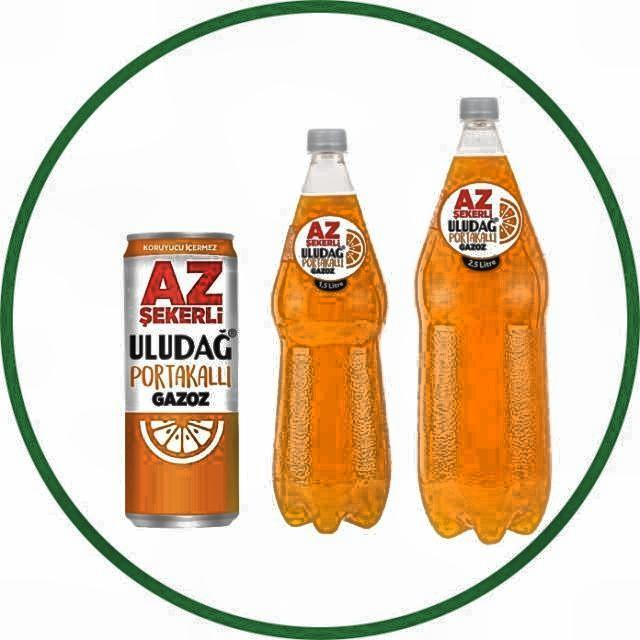metal: (122, 233, 240, 528)
plastic: (416, 97, 551, 547), (271, 127, 392, 538)
